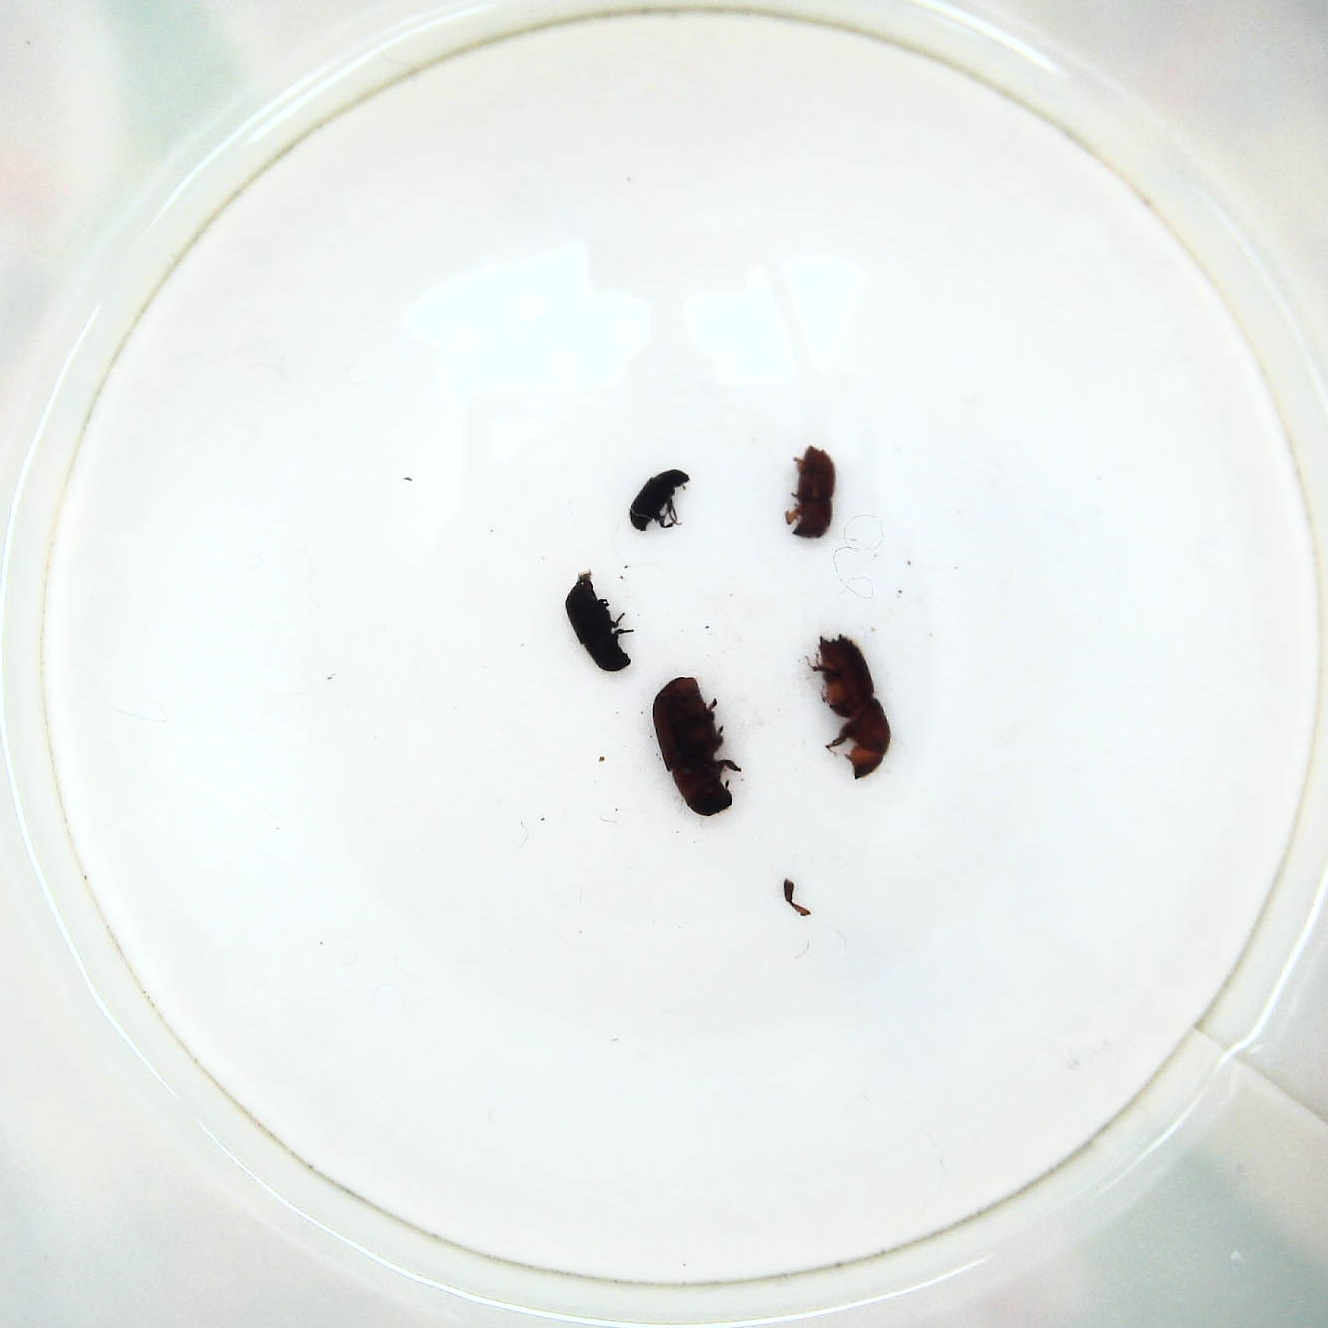Boerner: (810, 629, 896, 783)
Leconte: (649, 673, 749, 817)
armandi: (565, 576, 632, 679)
coleoptera: (628, 466, 693, 544)
linnaeus: (783, 437, 842, 544)
